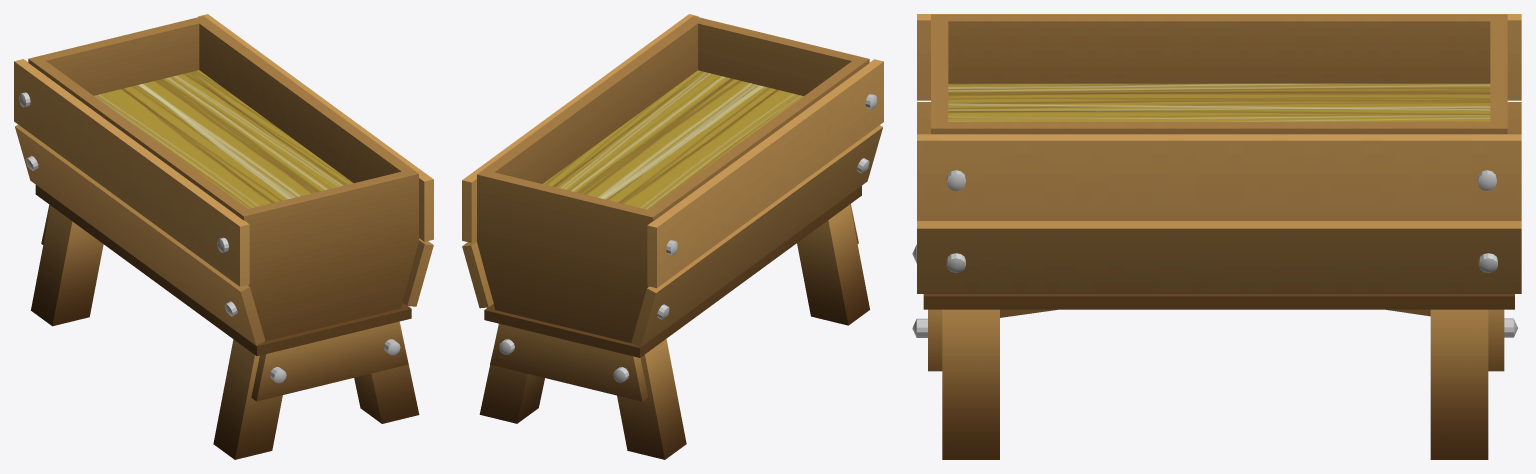
Rendered from trough.fbx.
The picture shows the model from 3 angles, left to right: view 1: azimuth 30°, elevation 25°; view 2: azimuth 150°, elevation 25°; view 3: azimuth 270°, elevation 25°; orthographic projection. The views are drawn at different scales.
Visible parts, largest first — view 1: trough; view 2: trough; view 3: trough.
Boxes of the visible parts, box(x1,y1,x2,y2) form: trough: box(14, 14, 433, 459); trough: box(462, 14, 883, 459); trough: box(912, 14, 1521, 459).
Bounding box in the file's own units: 6.51 × 7.3 × 12.28.
